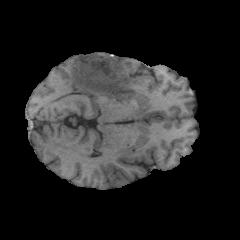glioma: (70, 52, 136, 105)
